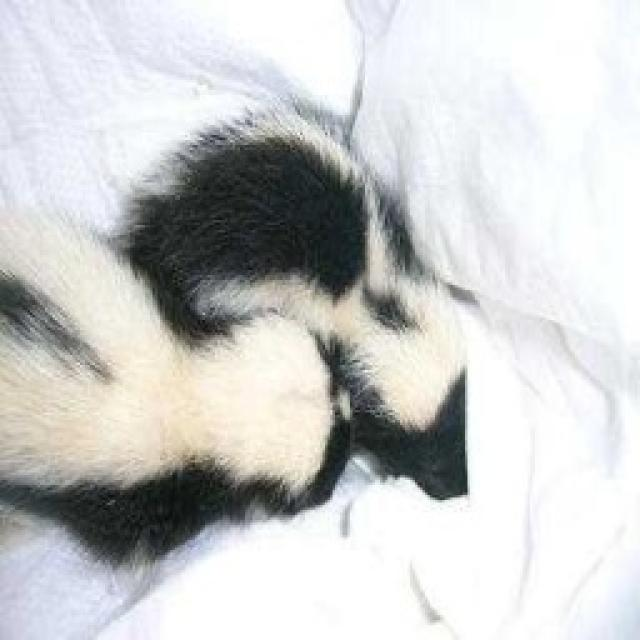not_pig: (115, 94, 470, 502), (0, 199, 373, 579)
